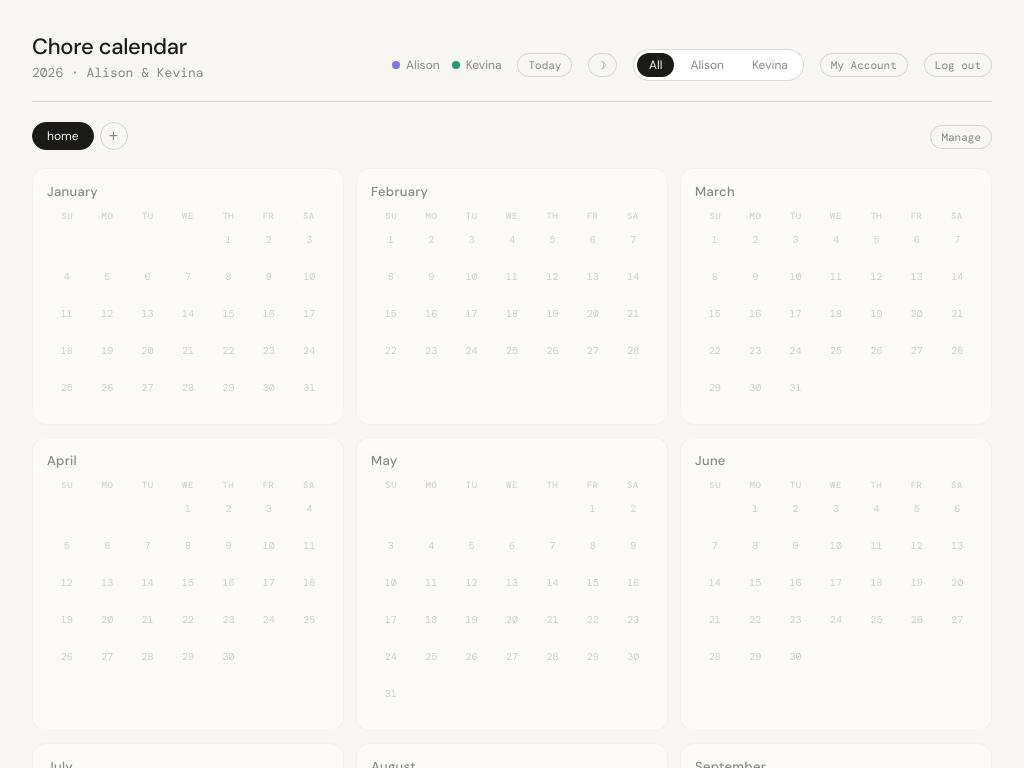
Scenario: App › opens create group dialog when + button is clicked
Expected: the text "January" is shown, [47,183,98,200]
Click the button named "Create new group" at [114, 136], box [100,122,128,150]
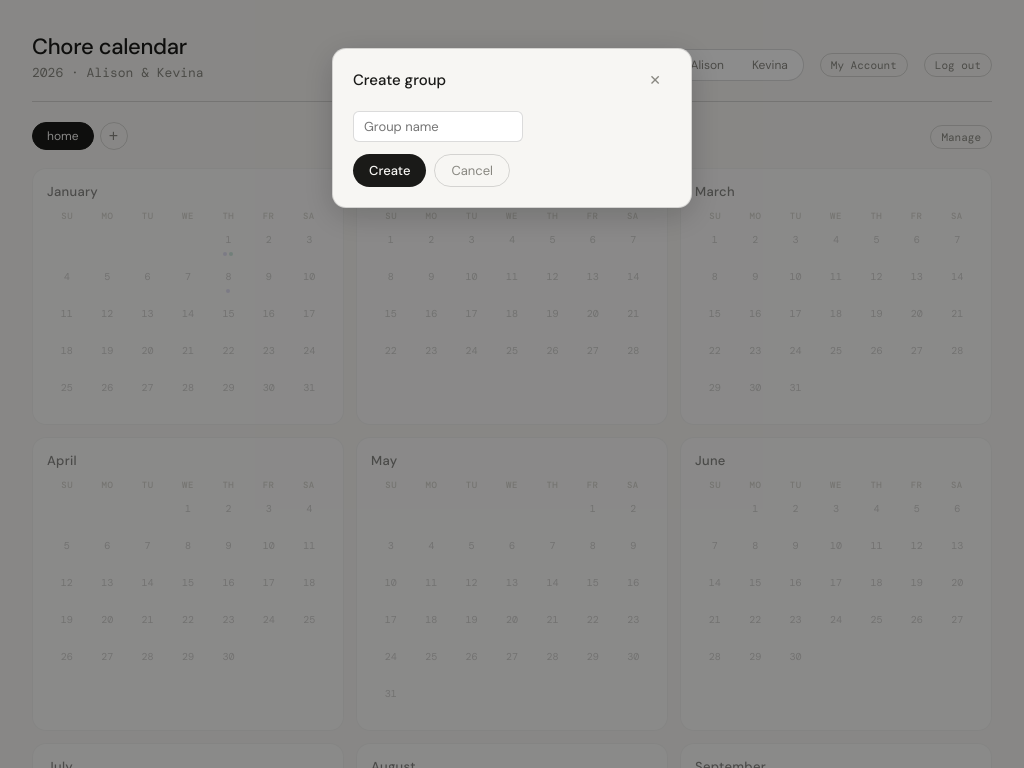
Expected: the dialog "Create group" is shown
